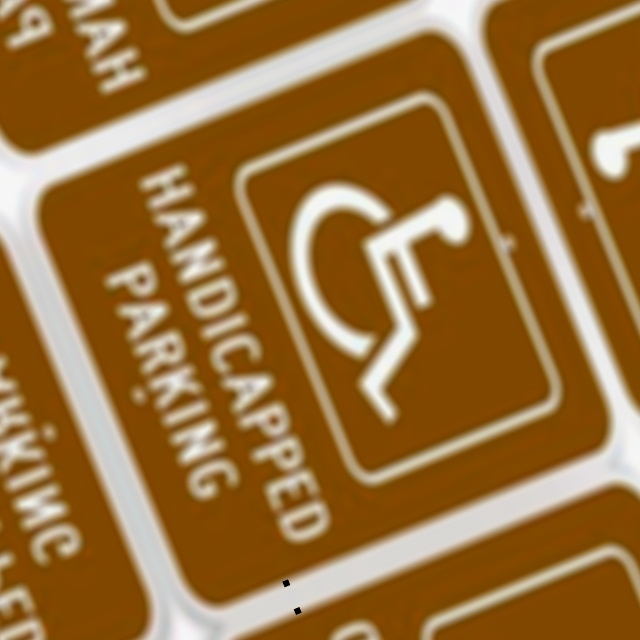ISA: (263, 140, 528, 437), (565, 15, 640, 312), (450, 594, 640, 640)
